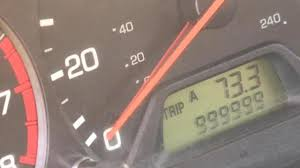Digital_Meter: (153, 56, 286, 153)
